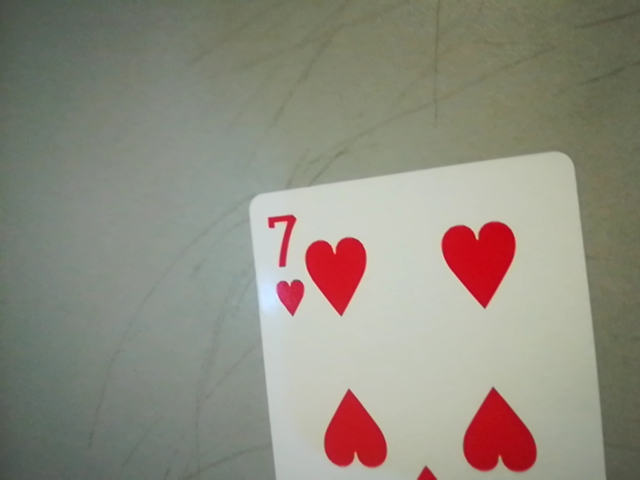hx 7: (255, 204, 307, 321)
